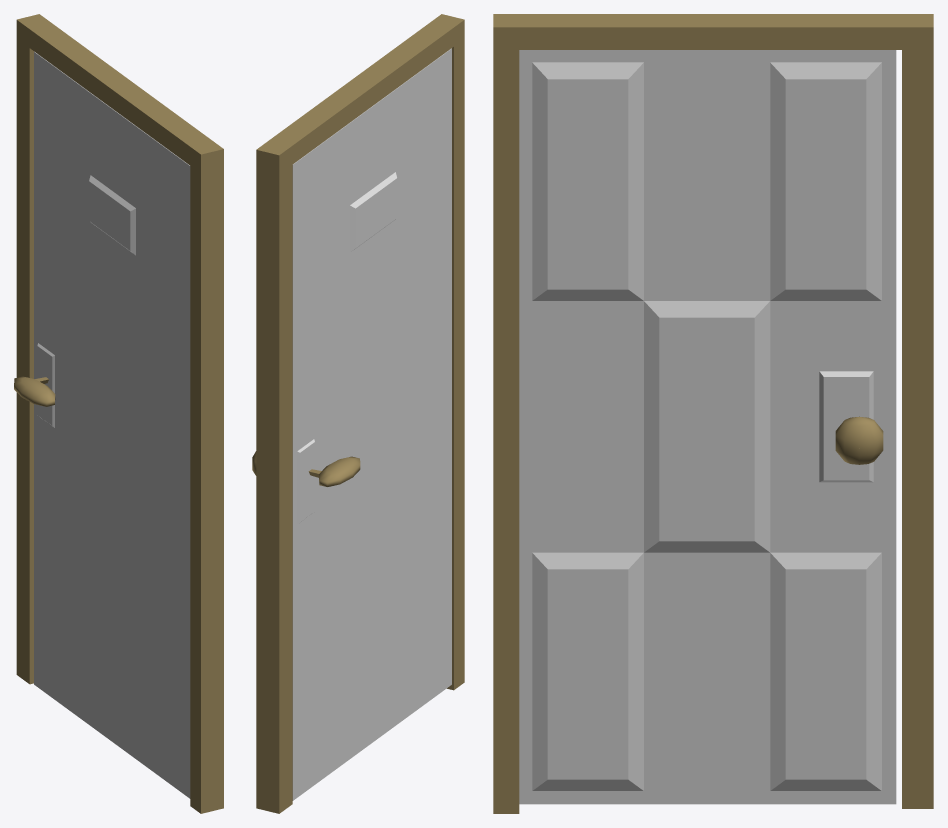
File: hotel-door.fbx
The picture shows the model from 3 angles, left to right: view 1: azimuth 30°, elevation 25°; view 2: azimuth 150°, elevation 25°; view 3: azimuth 270°, elevation 25°; orthographic projection. The views are drawn at different scales.
Parts seen in each view (by area): view 1: Cube, Cube_1, Sphere; view 2: Cube, Cube_1, Sphere; view 3: Cube, Cube_1, Sphere_1.
Boxes of the visible parts, x1,y1,x2,y2 form: Cube: [34, 51, 190, 798]; Cube_1: [16, 14, 223, 813]; Sphere: [14, 376, 55, 406]; Cube: [292, 48, 451, 800]; Cube_1: [256, 14, 464, 813]; Sphere: [319, 456, 360, 486]; Cube: [519, 50, 896, 804]; Cube_1: [493, 14, 933, 813]; Sphere_1: [835, 416, 883, 464].
Bounding box in the file's own units: 38.33 × 269 × 136.
